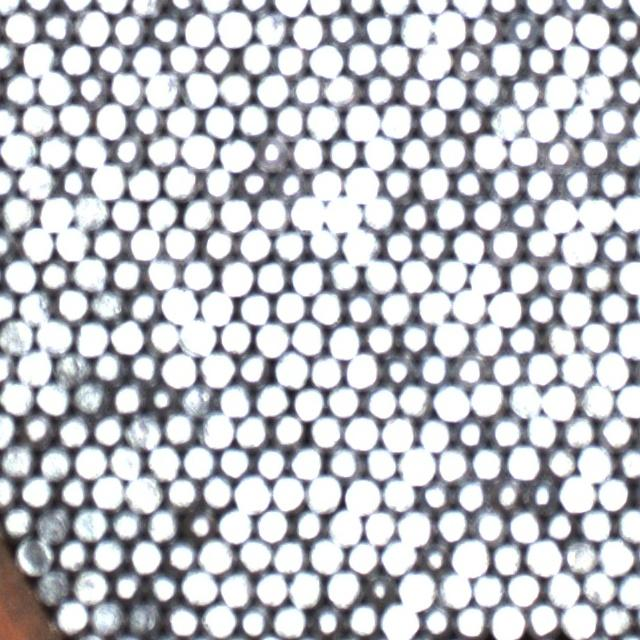tool: (14, 536, 52, 572), (561, 600, 597, 638), (544, 569, 581, 605), (37, 193, 73, 230), (380, 603, 417, 639), (452, 538, 488, 575), (254, 319, 290, 356), (594, 350, 630, 387), (198, 536, 234, 573), (526, 537, 562, 574), (488, 602, 524, 639), (305, 474, 341, 510), (470, 571, 506, 607), (559, 474, 595, 510), (145, 70, 181, 106), (217, 318, 253, 354), (200, 350, 236, 386), (470, 132, 506, 168), (218, 570, 254, 606), (290, 319, 326, 355), (414, 42, 450, 78), (72, 192, 108, 228), (344, 351, 380, 387), (53, 536, 89, 572), (399, 571, 435, 607), (506, 570, 542, 606), (342, 226, 378, 262), (2, 8, 38, 44), (180, 568, 216, 604), (218, 135, 254, 171), (468, 258, 504, 294), (598, 600, 634, 636), (16, 348, 52, 384), (36, 317, 72, 353), (488, 290, 524, 326), (162, 224, 198, 260), (362, 444, 398, 480), (560, 227, 596, 263), (161, 286, 197, 322), (486, 226, 522, 262), (92, 101, 128, 137), (161, 351, 197, 387), (35, 505, 71, 541), (236, 536, 272, 572), (526, 600, 561, 637), (433, 318, 468, 355), (180, 318, 215, 355), (216, 442, 252, 477), (53, 224, 88, 260), (470, 444, 505, 480), (326, 323, 362, 358), (343, 165, 379, 200), (578, 444, 613, 480), (126, 412, 161, 448), (470, 320, 506, 355), (126, 474, 161, 510), (578, 72, 613, 108), (1, 193, 36, 229), (90, 472, 125, 508), (578, 195, 613, 231), (324, 71, 359, 107), (542, 196, 577, 232), (344, 477, 380, 512), (399, 446, 434, 482), (452, 350, 488, 385), (218, 258, 253, 294), (54, 412, 89, 448), (255, 70, 290, 106), (597, 288, 632, 324), (181, 195, 216, 231), (308, 352, 343, 388), (127, 598, 162, 634), (90, 598, 125, 634), (274, 351, 309, 387), (270, 474, 305, 510), (596, 474, 631, 510), (344, 538, 380, 573), (308, 41, 343, 77), (253, 9, 288, 45), (432, 10, 467, 46), (325, 195, 360, 231), (254, 569, 289, 605), (598, 412, 633, 448), (53, 286, 89, 321), (398, 10, 433, 46), (234, 474, 269, 510), (0, 131, 35, 167), (380, 414, 415, 450), (345, 600, 380, 636), (434, 446, 469, 482), (37, 69, 73, 104), (272, 537, 307, 573), (451, 286, 486, 322), (542, 320, 578, 355), (90, 536, 126, 571), (126, 164, 161, 200), (216, 9, 252, 44), (380, 538, 416, 573), (199, 288, 234, 324), (54, 349, 90, 384), (432, 384, 468, 419), (72, 505, 108, 540), (524, 412, 560, 447), (198, 411, 234, 446), (344, 104, 379, 140), (17, 162, 53, 197), (416, 349, 451, 385), (360, 192, 395, 228), (217, 506, 253, 541), (524, 472, 559, 508), (54, 597, 89, 633), (308, 537, 343, 573), (163, 162, 198, 198), (72, 379, 108, 414), (579, 381, 614, 417), (2, 256, 37, 292), (108, 505, 144, 540), (562, 536, 597, 572), (255, 135, 290, 171), (398, 257, 433, 293), (397, 509, 432, 545), (288, 570, 323, 606), (437, 571, 472, 607), (419, 600, 454, 636), (34, 568, 70, 603), (361, 134, 397, 169), (144, 195, 179, 230), (381, 475, 416, 510), (506, 443, 541, 478), (558, 289, 593, 324), (18, 473, 53, 508), (344, 288, 379, 323), (524, 350, 559, 385), (433, 73, 468, 108), (470, 195, 505, 230), (218, 70, 253, 105), (433, 134, 468, 169), (254, 258, 289, 293), (165, 601, 200, 636), (289, 444, 324, 479), (75, 8, 110, 43), (73, 567, 108, 602), (290, 195, 325, 230), (452, 43, 487, 78), (560, 413, 595, 448), (20, 101, 55, 136), (290, 12, 325, 47), (470, 71, 505, 106), (180, 133, 215, 168), (308, 289, 343, 324), (37, 132, 72, 167), (37, 444, 72, 479), (542, 258, 577, 293), (237, 290, 272, 325), (327, 508, 362, 543), (236, 226, 271, 261), (362, 71, 397, 106), (469, 380, 504, 415), (543, 443, 578, 478), (108, 444, 143, 479), (326, 255, 361, 290), (489, 473, 524, 508), (345, 40, 379, 76), (454, 602, 488, 638), (255, 194, 289, 230), (90, 162, 124, 198), (582, 568, 616, 604), (126, 286, 160, 322), (0, 378, 34, 414), (183, 70, 217, 106), (598, 537, 632, 573), (506, 258, 540, 294), (380, 102, 414, 138), (433, 194, 467, 230), (110, 318, 144, 354), (381, 164, 415, 200), (0, 317, 34, 353), (343, 414, 379, 448), (382, 348, 416, 384), (290, 504, 324, 540), (234, 412, 268, 448), (542, 382, 576, 418), (236, 349, 270, 385), (90, 347, 126, 381), (144, 506, 180, 540), (58, 40, 92, 76), (488, 412, 522, 448), (362, 257, 396, 293), (237, 601, 271, 637), (416, 538, 452, 572), (165, 40, 200, 74), (560, 349, 594, 384), (127, 225, 161, 260), (202, 602, 236, 637), (146, 318, 180, 353), (579, 319, 613, 354), (200, 472, 234, 507), (306, 224, 341, 258), (74, 320, 108, 355), (326, 570, 360, 605), (379, 41, 413, 76), (290, 259, 324, 294), (218, 196, 252, 231), (380, 289, 414, 324), (146, 443, 180, 478), (274, 41, 308, 76), (558, 42, 592, 77), (130, 41, 164, 76), (90, 286, 125, 320), (290, 134, 324, 169), (181, 443, 215, 478), (559, 163, 593, 198), (416, 416, 451, 450), (272, 603, 307, 637), (506, 320, 540, 355), (201, 226, 236, 260), (326, 444, 361, 478), (20, 224, 54, 259), (576, 11, 610, 46), (128, 538, 162, 573), (416, 165, 451, 199), (91, 411, 125, 446), (595, 164, 630, 198), (182, 10, 216, 45), (73, 443, 107, 478), (40, 7, 74, 42), (273, 289, 308, 323), (75, 69, 109, 104), (453, 165, 487, 200), (164, 473, 199, 507), (523, 165, 557, 200), (543, 135, 578, 169), (90, 224, 125, 258), (254, 507, 289, 541), (508, 73, 542, 108), (505, 10, 540, 44), (469, 10, 503, 45), (129, 102, 164, 136), (397, 197, 432, 231), (306, 102, 340, 137), (201, 164, 236, 198), (202, 103, 237, 137), (308, 413, 342, 448), (326, 10, 361, 44), (254, 382, 289, 416), (56, 474, 90, 509), (164, 102, 199, 136), (578, 506, 613, 540), (326, 134, 360, 169), (542, 72, 576, 107), (74, 132, 108, 167), (524, 225, 559, 259), (488, 350, 522, 385), (271, 412, 306, 446), (55, 163, 90, 197), (488, 165, 522, 200), (18, 288, 52, 323), (507, 508, 542, 542), (435, 506, 469, 541), (596, 103, 630, 138), (180, 256, 215, 290), (598, 228, 633, 262), (363, 384, 398, 418), (326, 383, 361, 417), (72, 255, 107, 289), (525, 104, 560, 138), (488, 41, 523, 75), (217, 382, 252, 416), (19, 409, 53, 444), (36, 379, 70, 414), (471, 507, 506, 541), (110, 132, 144, 167), (110, 567, 145, 601), (490, 539, 524, 574), (362, 508, 397, 542), (489, 103, 524, 137), (397, 382, 432, 416), (161, 410, 196, 444), (144, 379, 179, 413), (144, 255, 179, 289), (362, 568, 396, 603), (109, 195, 142, 231), (21, 40, 55, 74), (594, 42, 628, 76), (94, 40, 128, 74), (454, 476, 488, 510), (524, 42, 558, 76), (0, 442, 34, 476), (56, 100, 90, 134), (398, 319, 432, 353), (254, 444, 288, 478), (452, 228, 486, 262), (506, 133, 540, 167), (291, 384, 325, 418), (416, 288, 450, 322), (238, 40, 272, 74), (399, 73, 433, 107), (290, 71, 324, 105), (508, 382, 542, 416), (508, 196, 542, 230), (524, 290, 558, 324), (127, 348, 161, 382), (398, 135, 432, 169), (453, 414, 487, 448), (308, 166, 342, 200), (540, 12, 574, 46), (418, 476, 452, 510), (580, 259, 614, 293), (561, 103, 595, 137), (163, 537, 197, 571), (434, 256, 468, 290), (180, 382, 214, 416), (363, 320, 397, 354), (415, 226, 449, 260), (110, 70, 144, 104), (542, 506, 576, 540), (112, 11, 146, 45), (416, 103, 450, 137), (146, 132, 180, 166), (37, 256, 71, 290), (310, 602, 344, 636), (182, 506, 216, 540), (147, 568, 180, 603), (381, 227, 416, 260), (452, 102, 487, 135), (201, 40, 234, 74), (4, 70, 37, 104), (272, 227, 306, 260), (149, 11, 182, 45), (362, 12, 396, 45), (273, 102, 306, 136), (237, 102, 270, 136), (111, 379, 144, 413), (109, 256, 142, 290), (275, 166, 308, 199), (578, 134, 611, 167), (1, 503, 34, 536), (238, 164, 270, 198), (611, 12, 640, 46), (613, 194, 640, 230), (612, 132, 640, 166), (613, 72, 640, 106), (615, 382, 640, 417), (616, 320, 640, 356), (616, 572, 640, 607), (616, 506, 640, 541), (616, 258, 640, 293), (616, 444, 640, 478), (0, 102, 19, 136), (0, 224, 18, 259), (0, 38, 18, 72), (0, 288, 17, 322), (0, 163, 17, 197), (128, 0, 162, 16), (0, 348, 16, 382), (0, 410, 15, 446), (558, 0, 592, 15), (524, 0, 558, 15), (308, 0, 342, 15), (594, 0, 628, 15), (0, 474, 15, 508), (452, 0, 486, 15), (273, 0, 307, 15), (236, 0, 272, 14), (344, 0, 378, 14), (486, 0, 520, 14), (379, 0, 412, 14), (200, 0, 234, 13), (415, 0, 449, 13)
